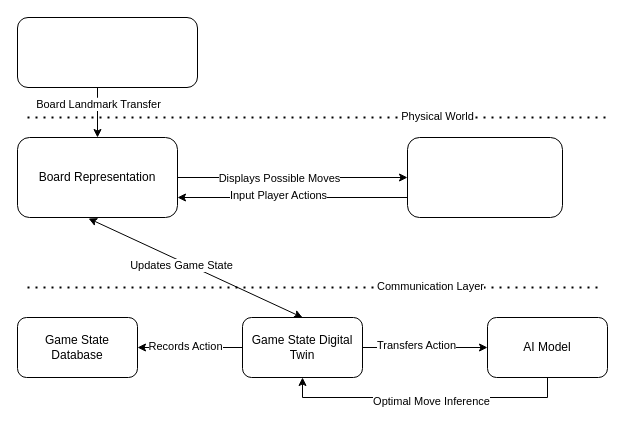
Some shapes in this 627 by 425 pixel diagram are drawn without their labels. The shapes that lost their labels are listed below. From the top down, each one's centre as x and y in pixels, then its label:
the point at 107,52: Camera Feed
the point at 484,177: User Interface
